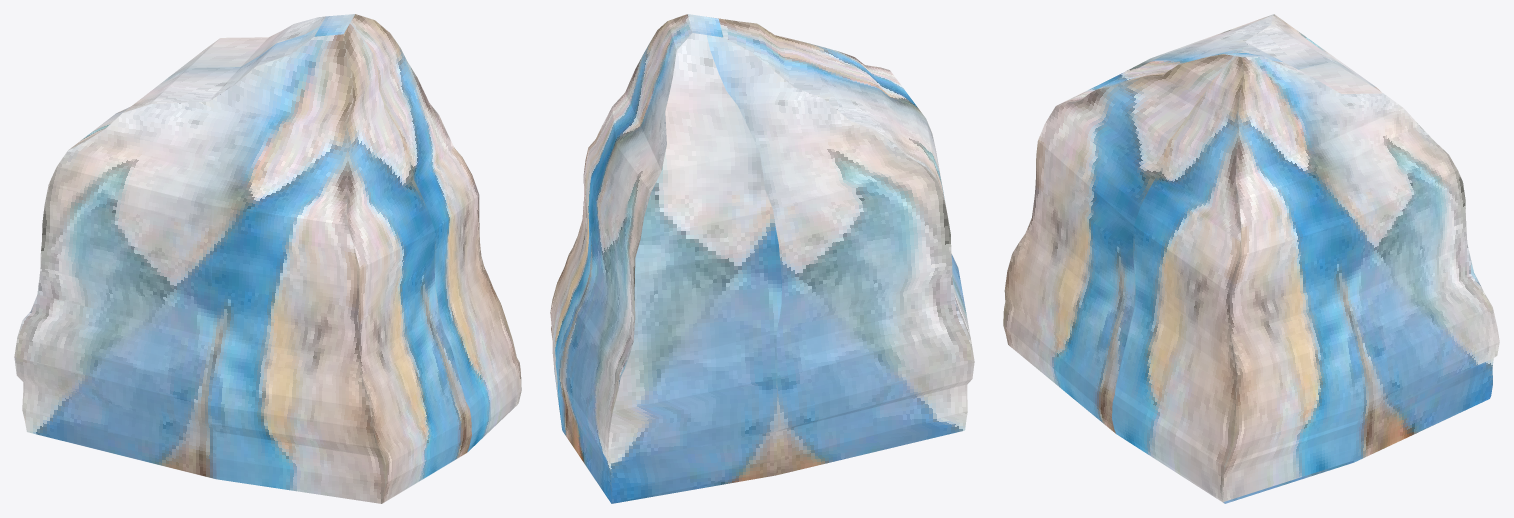
The picture shows the model from 3 angles, left to right: view 1: azimuth 30°, elevation 25°; view 2: azimuth 150°, elevation 25°; view 3: azimuth 270°, elevation 25°; orthographic projection. The views are drawn at different scales.
Visible parts, largest first — view 1: SPLICE_2.003; view 2: SPLICE_2.003; view 3: SPLICE_2.003.
Boxes of the visible parts, x1,y1,x2,y2 form: SPLICE_2.003: (14, 14, 521, 503); SPLICE_2.003: (550, 14, 974, 503); SPLICE_2.003: (1003, 14, 1499, 503).
Bounding box in the file's own units: 2.15 × 1.81 × 2.15.
1 material, 1 textured.
